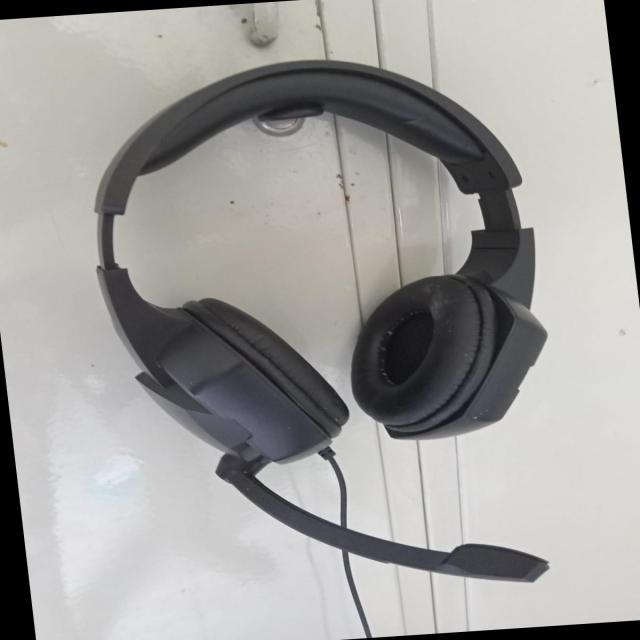earphone: (45, 26, 600, 616)
